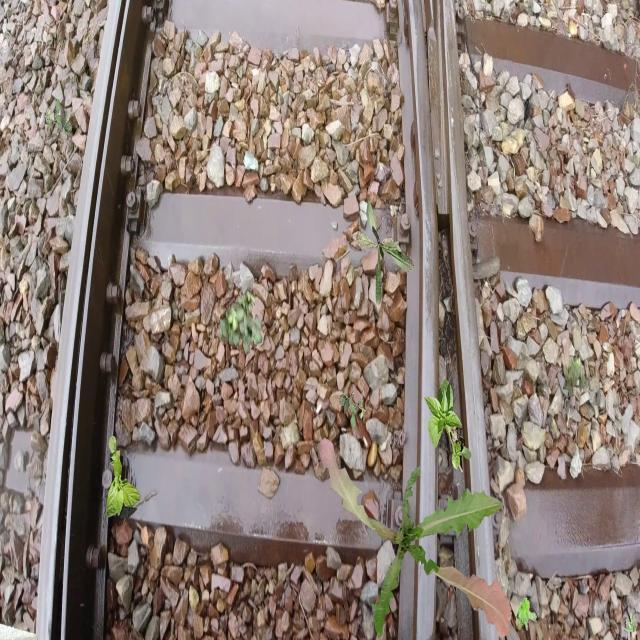Plant: (319, 437, 512, 640), (351, 194, 415, 306), (424, 378, 472, 473), (106, 436, 142, 520), (219, 289, 262, 356), (45, 99, 72, 140), (339, 388, 366, 429), (563, 354, 589, 396), (516, 598, 536, 631), (623, 612, 637, 632)
